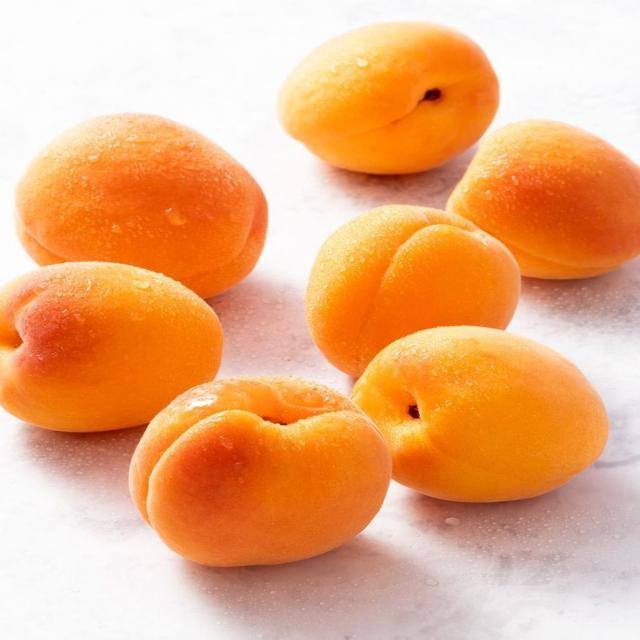kayisi: (127, 378, 393, 570), (13, 112, 270, 301), (349, 325, 610, 506), (0, 262, 225, 436), (305, 209, 523, 383), (274, 20, 503, 177), (445, 119, 640, 282)
